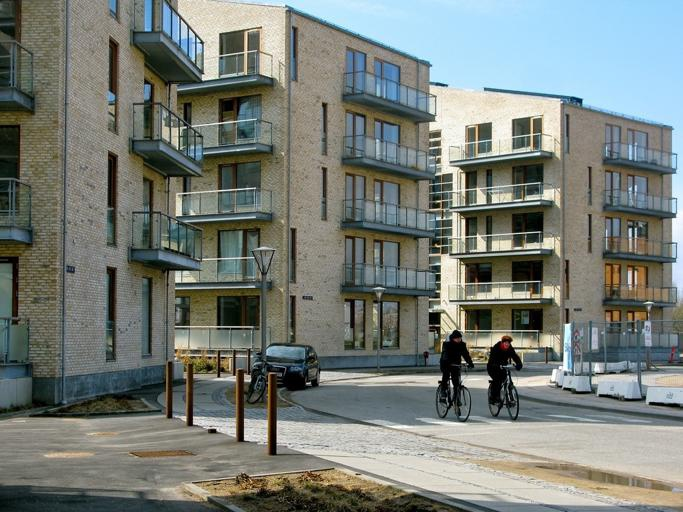non-vehicle: (433, 361, 473, 421), (486, 364, 519, 421), (242, 352, 274, 402)
